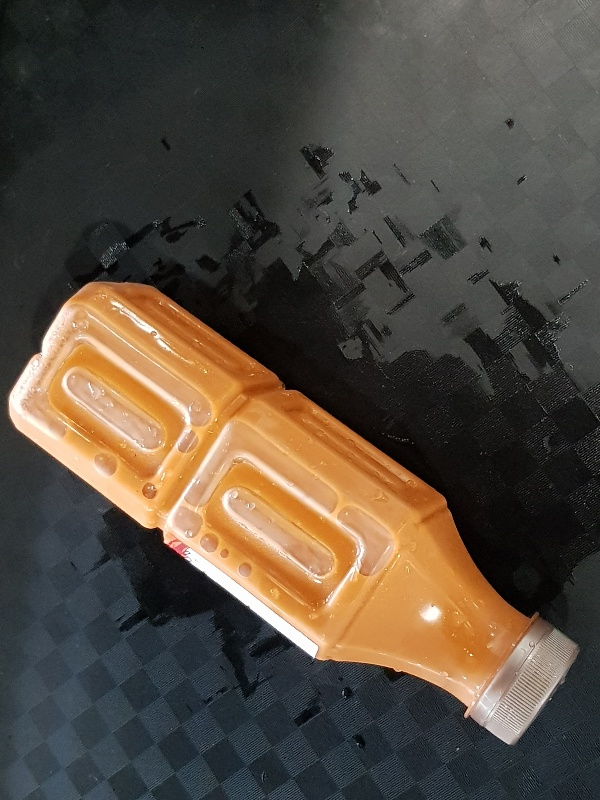Thai Milk Tea: (7, 278, 581, 749)
